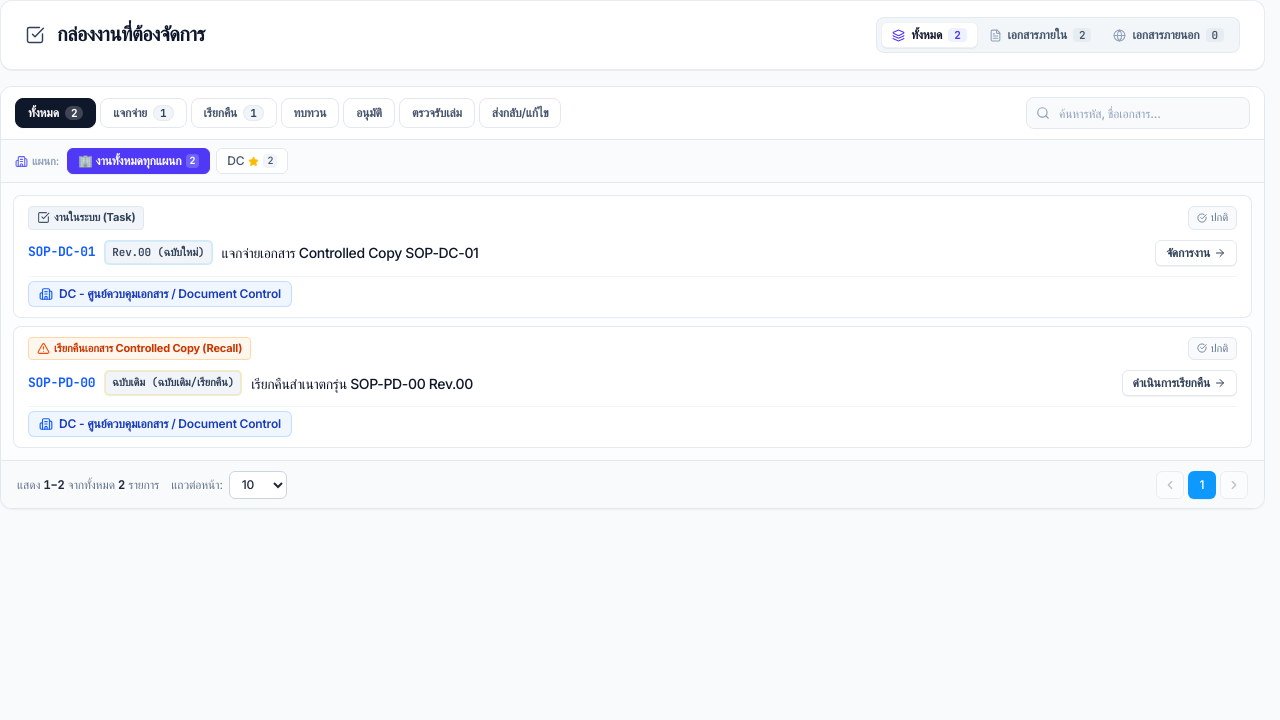
Test case: Strict Department Segregation for RECEIPT Tasks in TaskInbox & TaskFilter › 2. TaskInbox Component: Criteria 1 & 2 Verification › Criteria 1.1: When DCC Admin switches to "ตรวจรับเล่ม" tab, displays Empty State (No DC tasks) and does NOT leak QC tasks
Click "ตรวจรับเล่ม" tab
Click the button "ตรวจรับเล่ม" at (437, 113), box [399, 98, 475, 128]
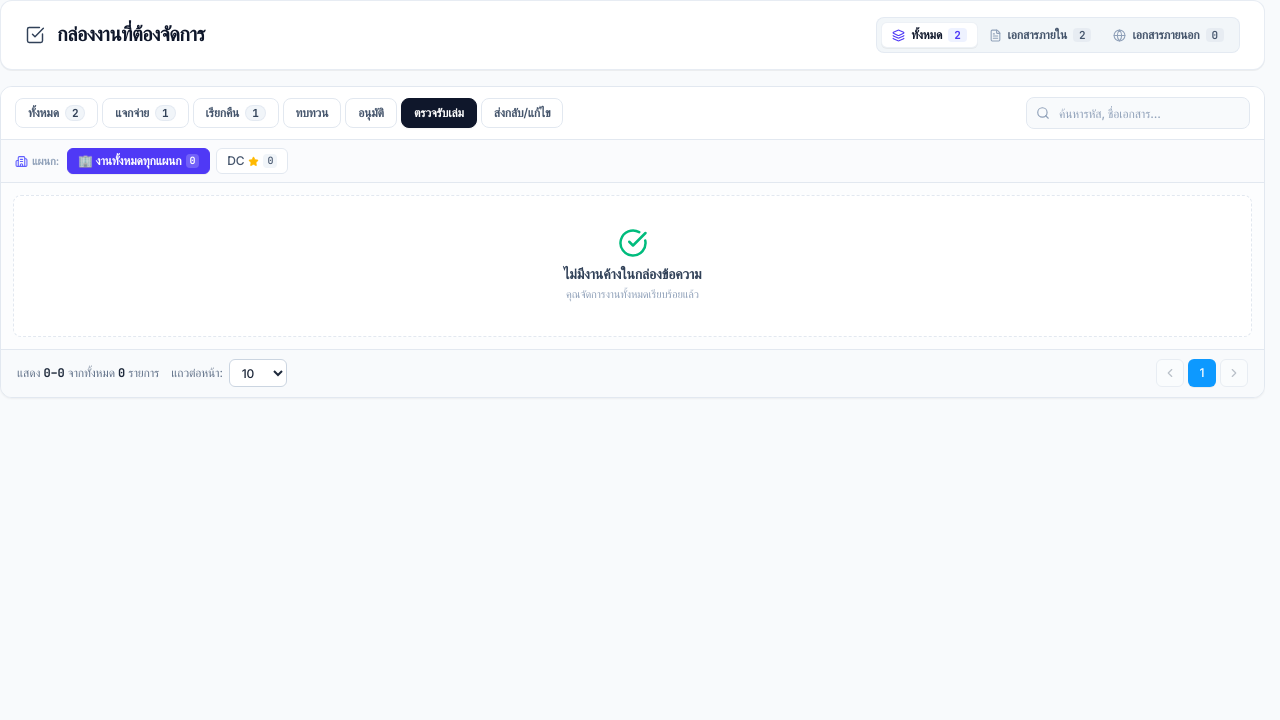
Result: the text "ไม่มีงานค้างในกล่องข้อความ" is shown at [564, 265, 702, 282]
Result: the text "คุณจัดการงานทั้งหมดเรียบร้อยแล้ว" is shown at [566, 287, 699, 301]
